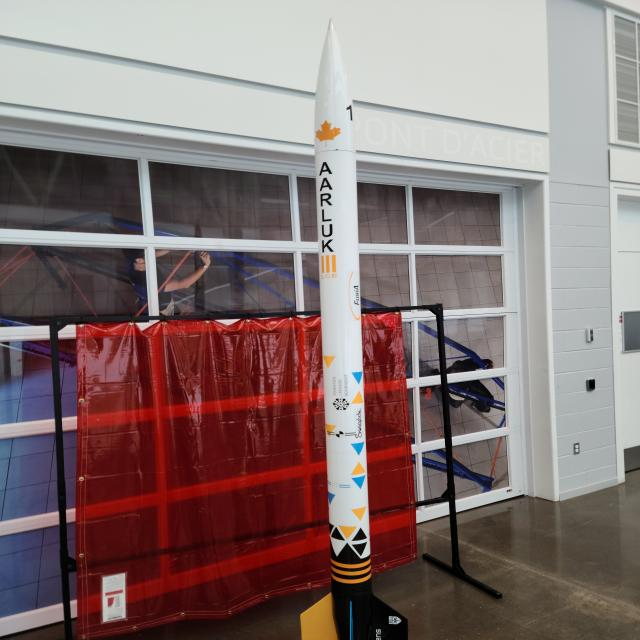Rocket: (300, 17, 408, 640)
